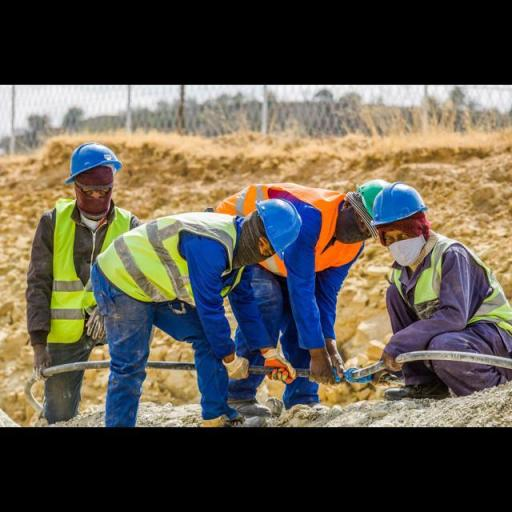Person: (84, 190, 317, 429), (18, 144, 144, 420), (368, 178, 512, 404)
gloves: (254, 342, 295, 388), (24, 343, 55, 393), (218, 352, 254, 386), (82, 306, 108, 340)
helmet: (252, 194, 304, 259), (371, 187, 428, 227), (66, 141, 123, 180), (360, 176, 389, 214)
none: (376, 224, 430, 247), (250, 232, 276, 260), (76, 181, 118, 197), (352, 210, 374, 236)
vest: (211, 183, 366, 282), (98, 212, 246, 313), (388, 234, 509, 350), (47, 196, 137, 350)
